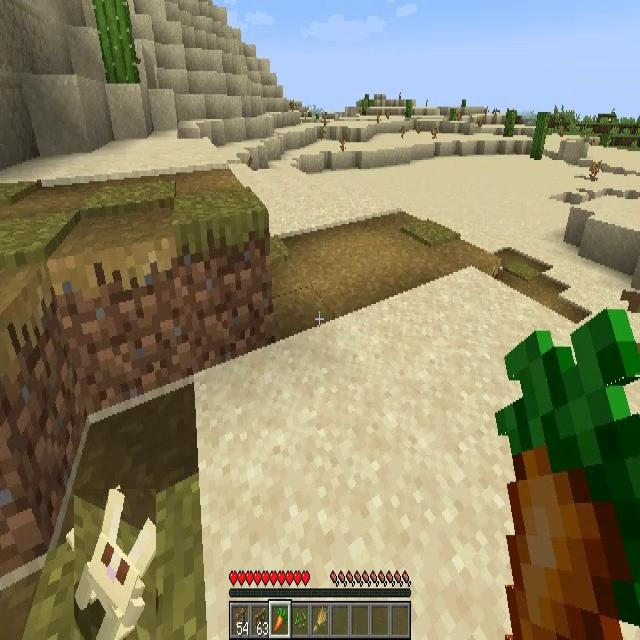rabbit: (74, 489, 156, 640)
